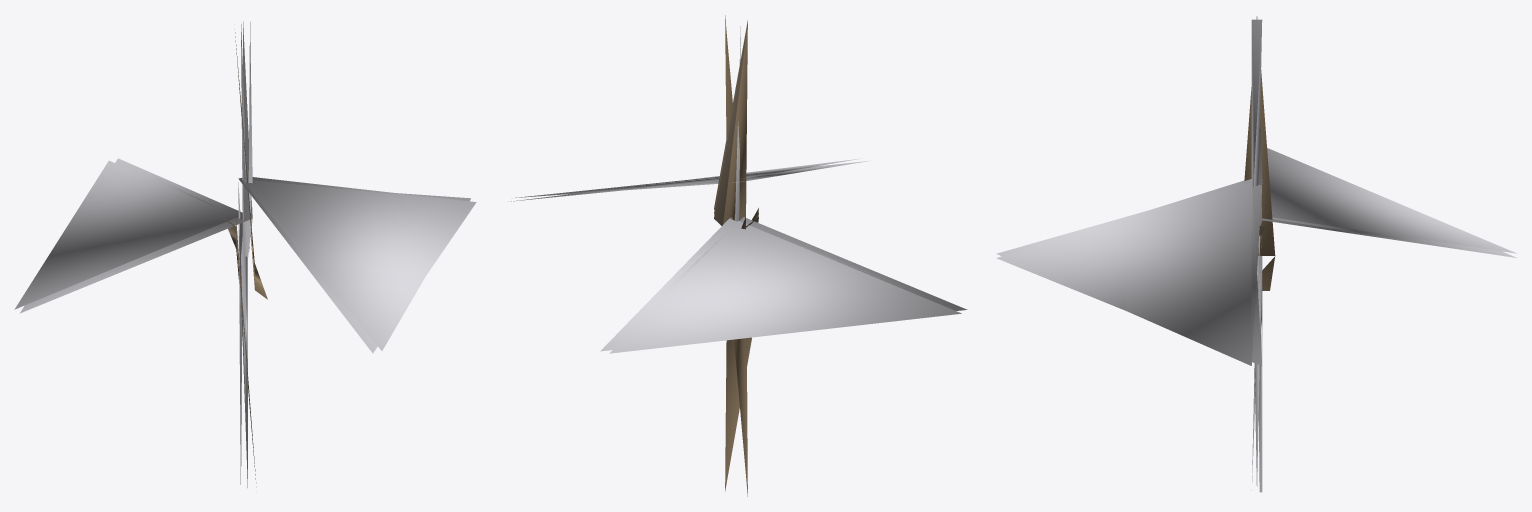
Rendered from equip_ammo_quiver_iron.glb.
3 views of the same model, side by side, from view 1: azimuth 30°, elevation 25°; view 2: azimuth 150°, elevation 25°; view 3: azimuth 270°, elevation 25° (orthographic).
Parts seen in each view (by area): view 1: equip_ammo_quiver_iron; view 2: equip_ammo_quiver_iron; view 3: equip_ammo_quiver_iron.
Boxes of the visible parts, box(x1,y1,x2,y2) form: equip_ammo_quiver_iron: box(14, 21, 476, 487); equip_ammo_quiver_iron: box(508, 15, 967, 496); equip_ammo_quiver_iron: box(996, 16, 1516, 492).
Size of the model in its own units: 2 by 2 by 2.
